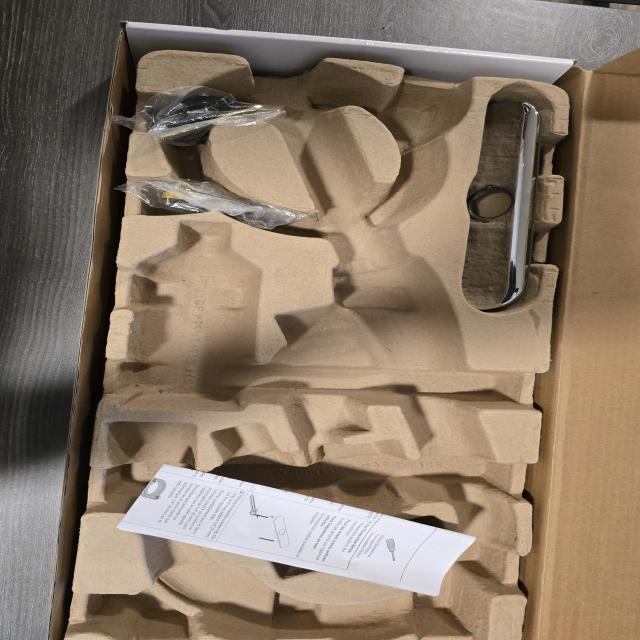1m: (108, 55, 511, 636)
2m: (210, 423, 446, 577)
3m: (119, 219, 261, 409)
4: (464, 101, 544, 310)
5m: (383, 92, 466, 145)
6: (111, 180, 307, 227)
7: (110, 86, 291, 150)
8: (114, 462, 473, 597)
